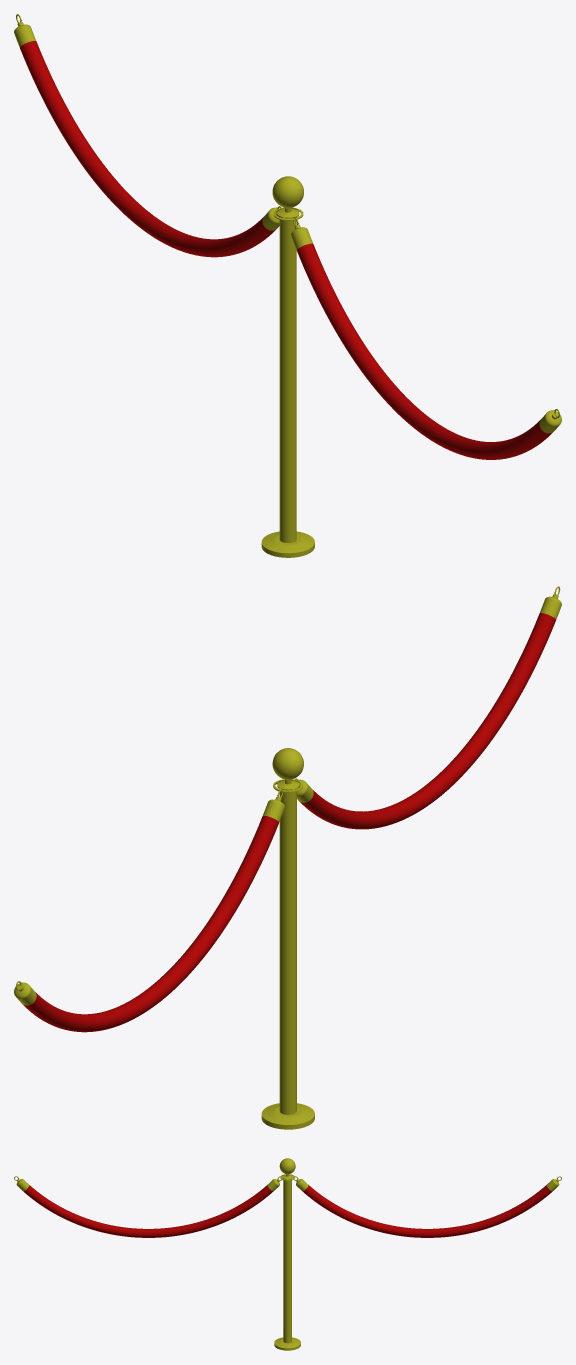
The model's file is RopeGuardConnector.fbx.
3 renders of one model, top to bottom at view 1: azimuth 30°, elevation 25°; view 2: azimuth 150°, elevation 25°; view 3: azimuth 270°, elevation 25°, orthographic. The views are drawn at different scales.
Parts seen in each view (by area): view 1: pCylinder23; view 2: pCylinder23; view 3: pCylinder23.
Boxes of the visible parts, <box> form: pCylinder23: <box>14,14,561,557</box>; pCylinder23: <box>14,586,561,1129</box>; pCylinder23: <box>14,1158,561,1350</box>.
Bounding box in the file's own units: 1.87 × 14.31 × 38.24.
